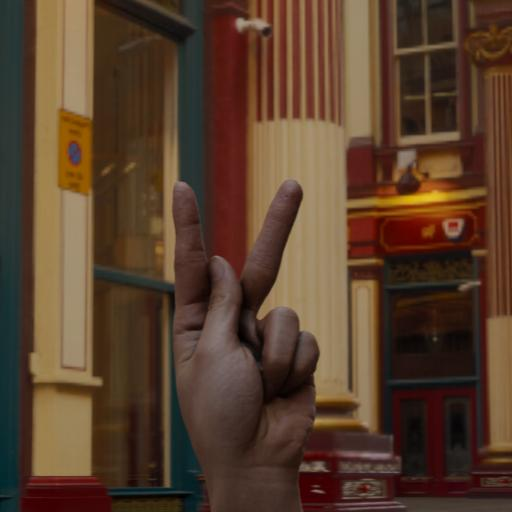K: (145, 151, 351, 476)
